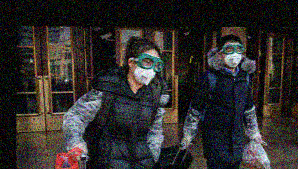with_mask: (133, 54, 163, 87), (222, 43, 244, 68)
